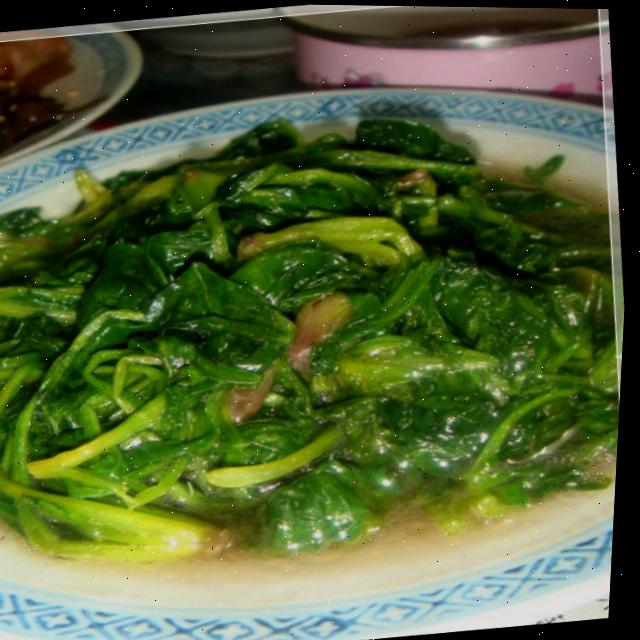蔬菜料理: (0, 8, 640, 442)
